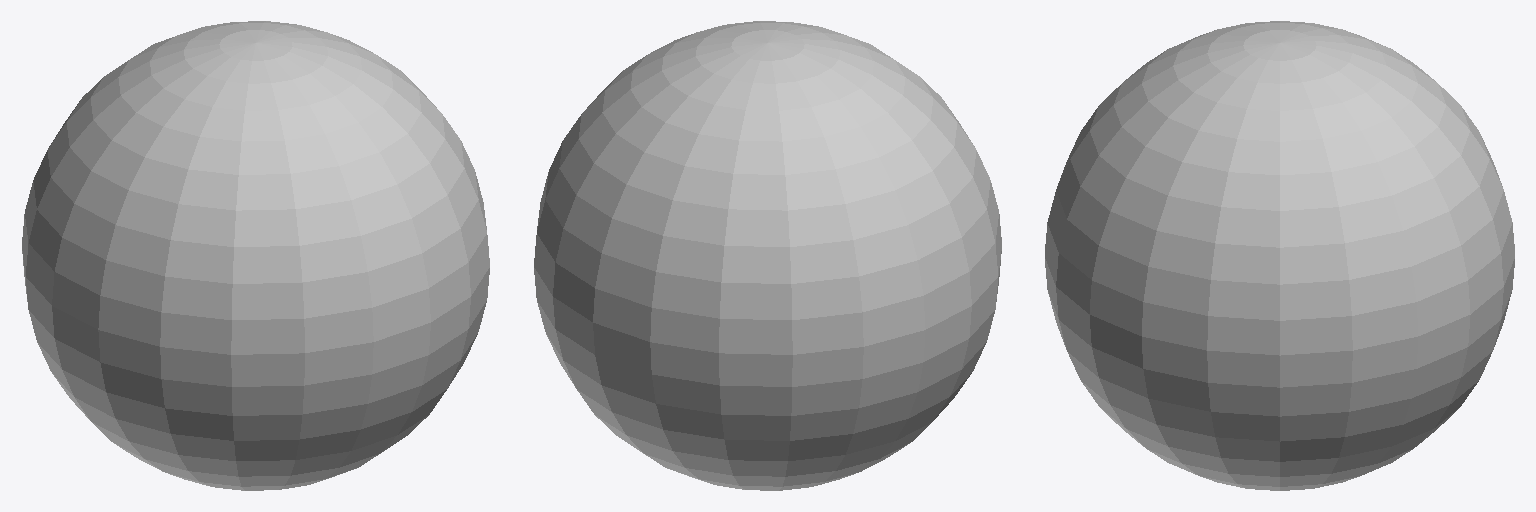
The model's file is stdsphere.obj.
3 views of the same model, side by side, from view 1: azimuth 30°, elevation 25°; view 2: azimuth 150°, elevation 25°; view 3: azimuth 270°, elevation 25° (orthographic).
Parts seen in each view (by area): view 1: pSphere1; view 2: pSphere1; view 3: pSphere1.
Part boxes in pixels (x1,y1,x2,y2): pSphere1: (22,21,489,490); pSphere1: (534,21,1001,490); pSphere1: (1045,21,1514,490).
Bounding box in the file's own units: 2.2 × 2.2 × 2.2.